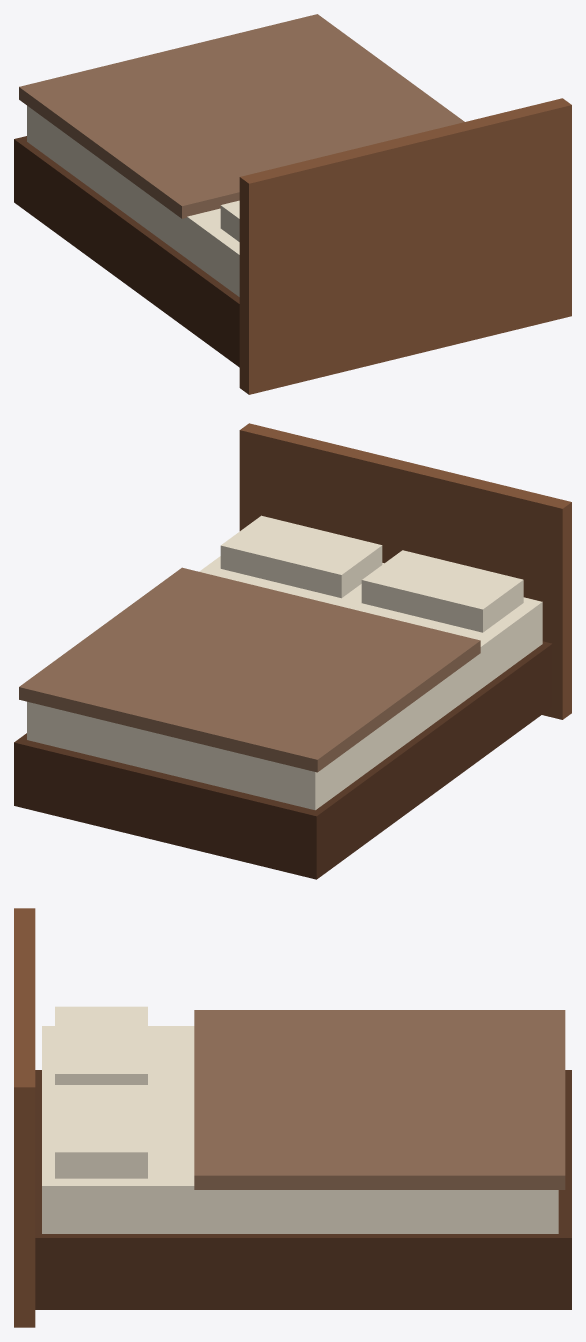
Rendered from parents_bed.glb.
The picture shows the model from 3 angles, top to bottom: view 1: azimuth 30°, elevation 25°; view 2: azimuth 150°, elevation 25°; view 3: azimuth 270°, elevation 25°; orthographic projection. The views are drawn at different scales.
Visible parts, largest first — view 1: Box6, Box3, Box1, Box2, Box5; view 2: Box3, Box1, Box6, Box2, Box5, Box4; view 3: Box3, Box1, Box2, Box6, Box4, Box5.
Boxes of the visible parts, bbox=[...] form: Box6: bbox=[239, 98, 571, 394]; Box3: bbox=[19, 14, 464, 218]; Box1: bbox=[14, 136, 239, 367]; Box2: bbox=[27, 105, 239, 296]; Box5: bbox=[220, 200, 239, 241]; Box3: bbox=[19, 567, 480, 772]; Box1: bbox=[14, 641, 552, 879]; Box6: bbox=[239, 423, 571, 719]; Box2: bbox=[27, 556, 542, 810]; Box5: bbox=[361, 550, 523, 632]; Box4: bbox=[220, 515, 382, 598]; Box3: bbox=[194, 1010, 565, 1189]; Box1: bbox=[35, 1070, 571, 1309]; Box2: bbox=[42, 1026, 558, 1233]; Box6: bbox=[14, 908, 35, 1327]; Box4: bbox=[55, 1085, 147, 1178]; Box5: bbox=[55, 1006, 147, 1084].
Size of the model in its own units: 1.6 by 1 by 2.11.
